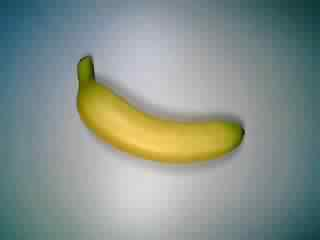banana: (70, 54, 247, 173)
